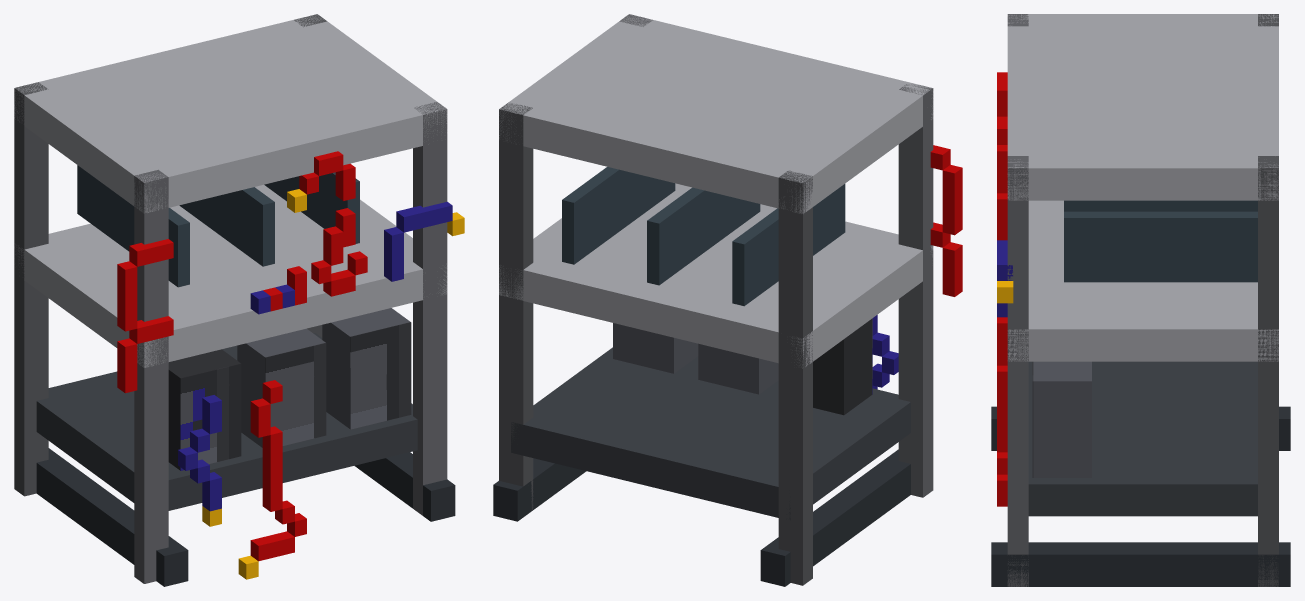
Rendered from CMU3DMachineFrameReadyCloud.glb.
3 renders of one model, left to right at view 1: azimuth 30°, elevation 25°; view 2: azimuth 150°, elevation 25°; view 3: azimuth 270°, elevation 25°, orthographic. The views are drawn at different scales.
Visible parts, largest first — view 1: full depth upper tier 5, full depth upper tier 15, open frame lower transverse rail, front structural post 4, front structural post 27, rear structural post 4, horizontal lower foot 5, lower equipment cartridge 3 original face, lower equipment cartridge 2 original face, upper interior dark guide 9, upper interior dark guide 16, lower equipment cartridge 1 original face (+12 smaller); view 2: full depth upper tier 5, open frame lower transverse rail, full depth upper tier 15, rear structural post 4, rear structural post 27, front structural post 4, horizontal lower foot 5, upper interior dark guide 16, upper interior dark guide 23, upper interior dark guide 9, lower equipment cartridge 1, lower equipment cartridge 3 (+2 smaller); view 3: full depth upper tier 5, open frame lower transverse rail, full depth upper tier 15, upper interior dark guide 23, horizontal lower foot 27, front structural post 27, rear structural post 27, lower equipment cartridge 3, upper interior dark guide 16, horizontal lower foot 5, source wire run (25, 11).
Part boxes in pixels (box(x1,y1,x2,y2)): full depth upper tier 5: box(14, 14, 447, 213); full depth upper tier 15: box(14, 184, 447, 367); open frame lower transverse rail: box(36, 333, 417, 510); front structural post 4: box(134, 169, 168, 583); front structural post 27: box(413, 102, 447, 515); rear structural post 4: box(14, 82, 48, 496); horizontal lower foot 5: box(36, 448, 188, 586); lower equipment cartridge 3 original face: box(350, 322, 411, 429); lower equipment cartridge 2 original face: box(265, 343, 326, 445); upper interior dark guide 9: box(77, 165, 189, 287); upper interior dark guide 16: box(179, 187, 274, 266); lower equipment cartridge 1 original face: box(180, 363, 241, 470); full depth upper tier 5: box(499, 14, 933, 213); open frame lower transverse rail: box(511, 347, 910, 520); full depth upper tier 15: box(499, 183, 933, 368); rear structural post 4: box(778, 170, 812, 585); rear structural post 27: box(499, 102, 533, 510); front structural post 4: box(898, 84, 933, 497); horizontal lower foot 5: box(760, 449, 910, 586); upper interior dark guide 16: box(647, 187, 760, 285); upper interior dark guide 23: box(562, 167, 675, 264); upper interior dark guide 9: box(732, 184, 845, 306); lower equipment cartridge 1: box(813, 319, 872, 415); lower equipment cartridge 3: box(613, 323, 698, 373); full depth upper tier 5: box(1007, 14, 1278, 200); open frame lower transverse rail: box(1028, 361, 1257, 516); full depth upper tier 15: box(1007, 200, 1278, 361); upper interior dark guide 23: box(1064, 211, 1257, 282); horizontal lower foot 27: box(991, 542, 1290, 586); front structural post 27: box(1007, 156, 1028, 586); rear structural post 27: box(1258, 156, 1278, 586); lower equipment cartridge 3: box(1033, 361, 1091, 477); upper interior dark guide 16: box(1064, 200, 1257, 211); horizontal lower foot 5: box(991, 406, 1290, 450); source wire run (25, 11): box(997, 240, 1012, 280).
Size of the model in its own units: 0.875 by 1.03 by 0.64.
14 materials, 3 textured.
